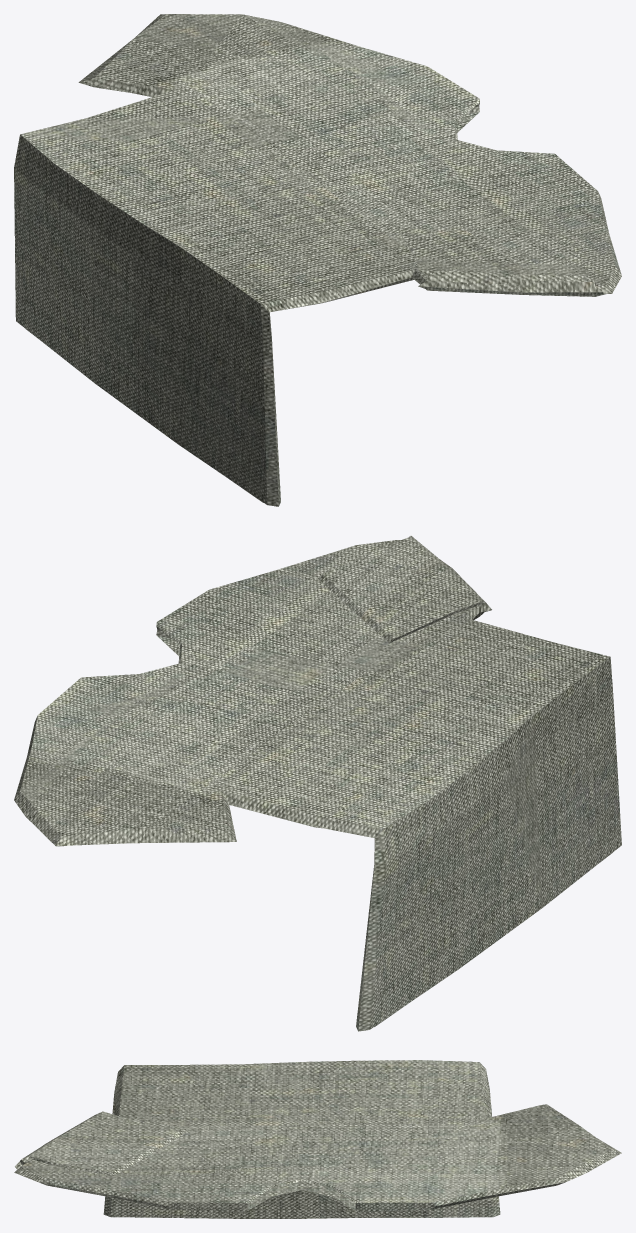
Rendered from camiseta3_3.fbx.
3 views of the same model, one above another, from view 1: azimuth 30°, elevation 25°; view 2: azimuth 150°, elevation 25°; view 3: azimuth 270°, elevation 25° (orthographic). The views are drawn at different scales.
Visible parts, largest first — view 1: shirt5:Mesh; view 2: shirt5:Mesh; view 3: shirt5:Mesh.
Part boxes in pixels (<box>): shirt5:Mesh: <box>14,14,621,506</box>; shirt5:Mesh: <box>14,535,621,1031</box>; shirt5:Mesh: <box>14,1060,621,1218</box>.
Size of the model in its own units: 1.78 by 0.9062 by 3.18.
1 material, 1 textured.
